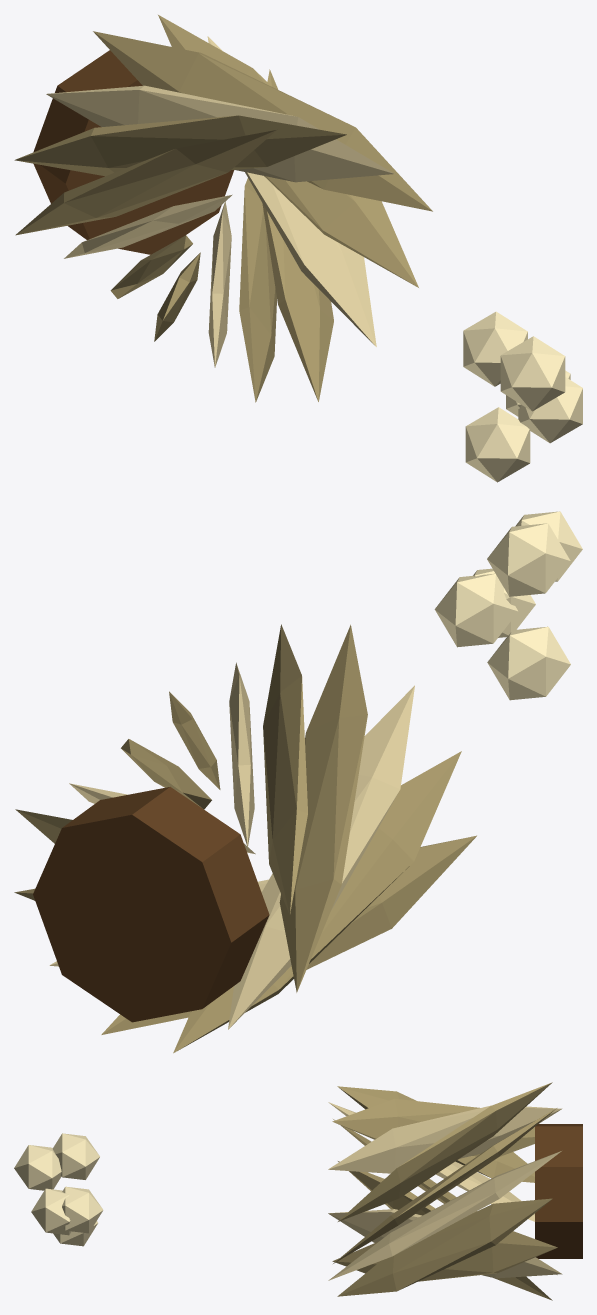
File: 4_mature.obj
The picture shows the model from 3 angles, top to bottom: view 1: azimuth 30°, elevation 25°; view 2: azimuth 150°, elevation 25°; view 3: azimuth 270°, elevation 25°; orthographic projection. The views are drawn at different scales.
Parts seen in each view (by area): view 1: avantoe_4_mature; view 2: avantoe_4_mature; view 3: avantoe_4_mature.
Boxes of the visible parts, <box> form: avantoe_4_mature: <box>14,15,582,482</box>; avantoe_4_mature: <box>14,511,582,1053</box>; avantoe_4_mature: <box>14,1082,582,1300</box>.
Size of the model in its own units: 0.1808 by 0.1808 by 0.4745.
